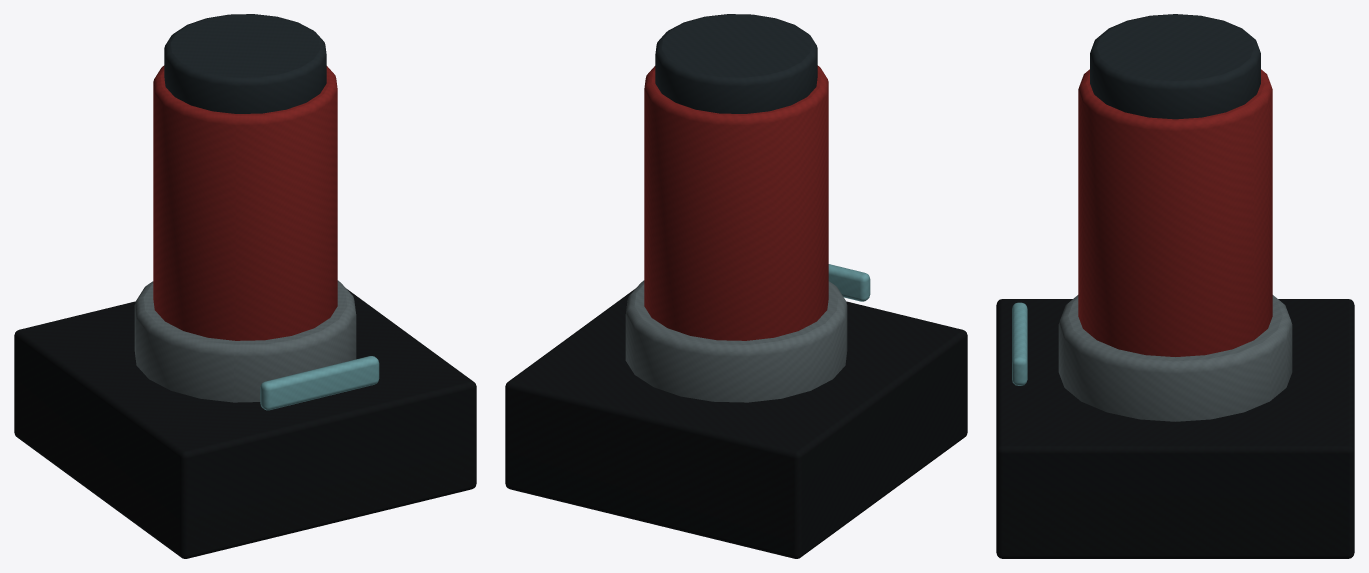
File: FloorWarningBeacon.fbx
The picture shows the model from 3 angles, left to right: view 1: azimuth 30°, elevation 25°; view 2: azimuth 150°, elevation 25°; view 3: azimuth 270°, elevation 25°; orthographic projection. The views are drawn at different scales.
Visible parts, largest first — view 1: FloorWarningBeacon_Mesh; view 2: FloorWarningBeacon_Mesh; view 3: FloorWarningBeacon_Mesh.
Part boxes in pixels (<box>): FloorWarningBeacon_Mesh: <box>14,14,476,558</box>; FloorWarningBeacon_Mesh: <box>505,14,967,558</box>; FloorWarningBeacon_Mesh: <box>996,14,1354,558</box>.
Size of the model in its own units: 46 by 62 by 46.
